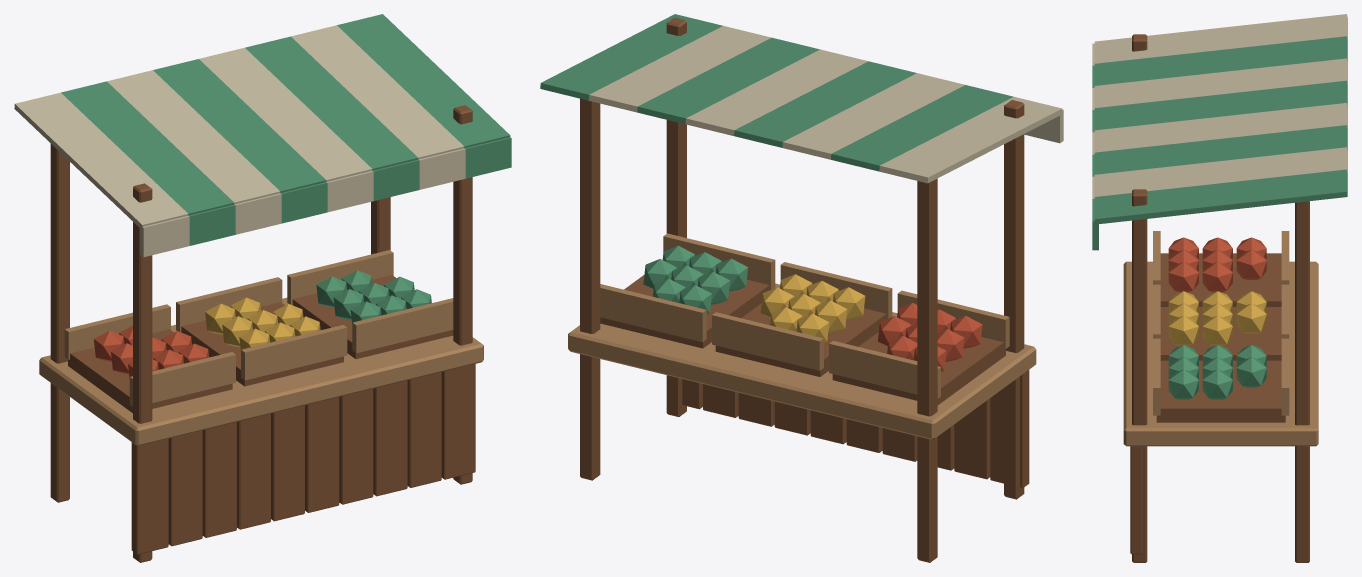
The model's file is produce_stall.glb.
3 renders of one model, left to right at view 1: azimuth 30°, elevation 25°; view 2: azimuth 150°, elevation 25°; view 3: azimuth 270°, elevation 25°, orthographic. The views are drawn at different scales.
Parts seen in each view (by area): view 1: produce_stall; view 2: produce_stall; view 3: produce_stall.
Part boxes in pixels (bbox=[...]): produce_stall: bbox=[14, 14, 511, 562]; produce_stall: bbox=[540, 14, 1063, 562]; produce_stall: bbox=[1092, 14, 1347, 562].
Size of the model in its own units: 2.48 by 2.48 by 1.51.
